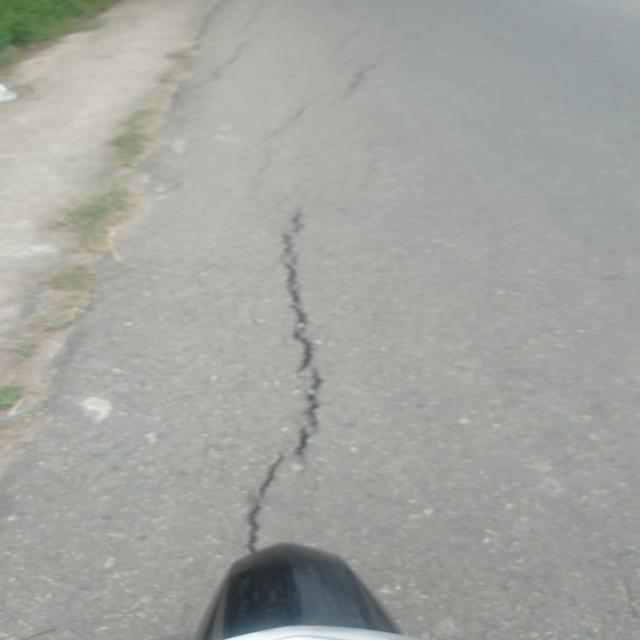Memanjang: (226, 208, 333, 553)
